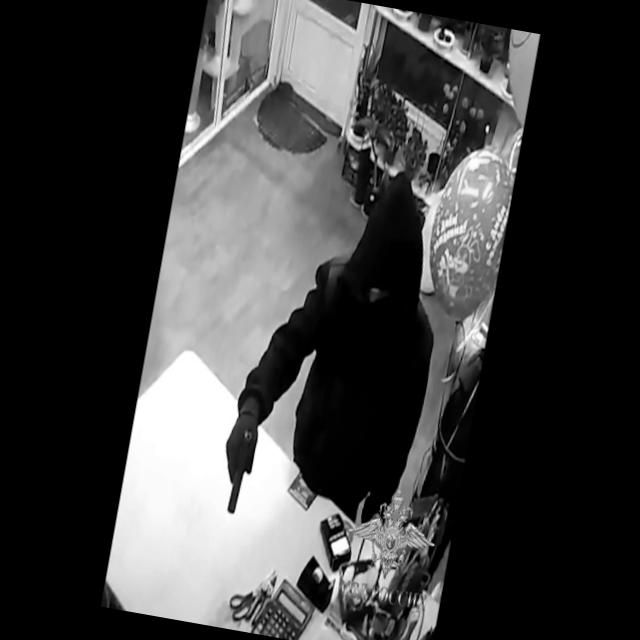gun: (214, 399, 270, 526)
person with a gun: (211, 153, 470, 552)
